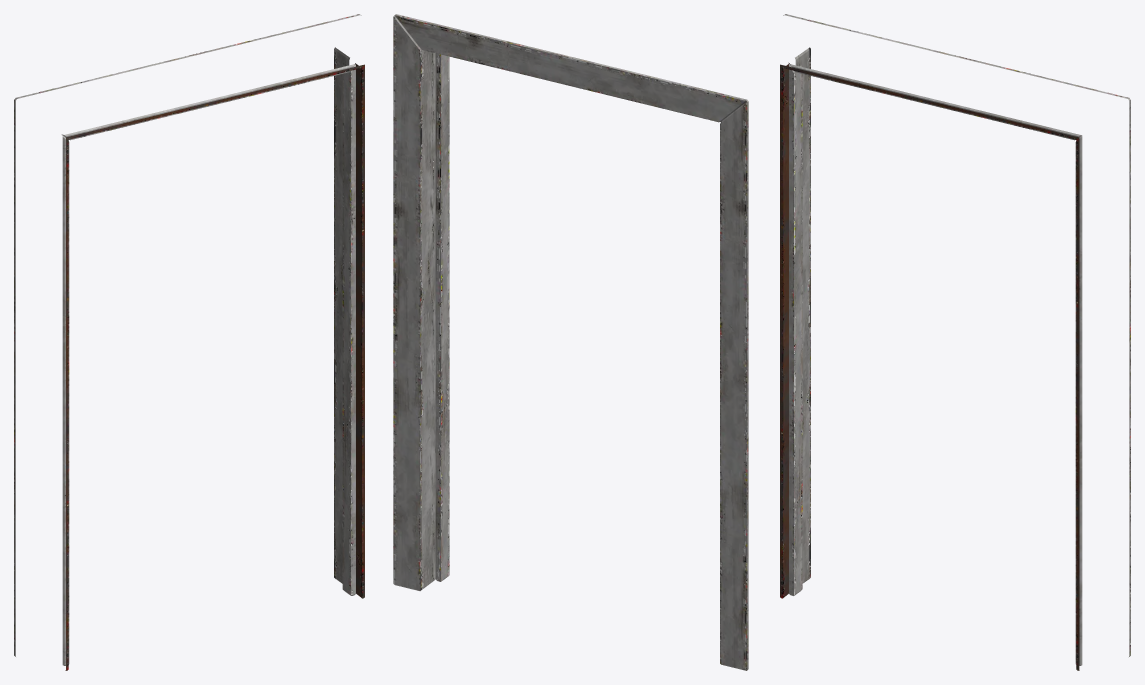
The model's file is door_frame_outdoor.glb.
The picture shows the model from 3 angles, left to right: view 1: azimuth 30°, elevation 25°; view 2: azimuth 150°, elevation 25°; view 3: azimuth 330°, elevation 25°; orthographic projection. The views are drawn at different scales.
Parts seen in each view (by area): view 1: door_frame_outdoor; view 2: door_frame_outdoor; view 3: door_frame_outdoor.
Part boxes in pixels (left/top/right/bottom): door_frame_outdoor: left=14, top=14, right=364, bottom=670; door_frame_outdoor: left=393, top=14, right=748, bottom=670; door_frame_outdoor: left=780, top=14, right=1130, bottom=670.
Bounding box in the file's own units: 1.48 × 2.27 × 0.2071.
Materials: 1 (1 with a texture image).
